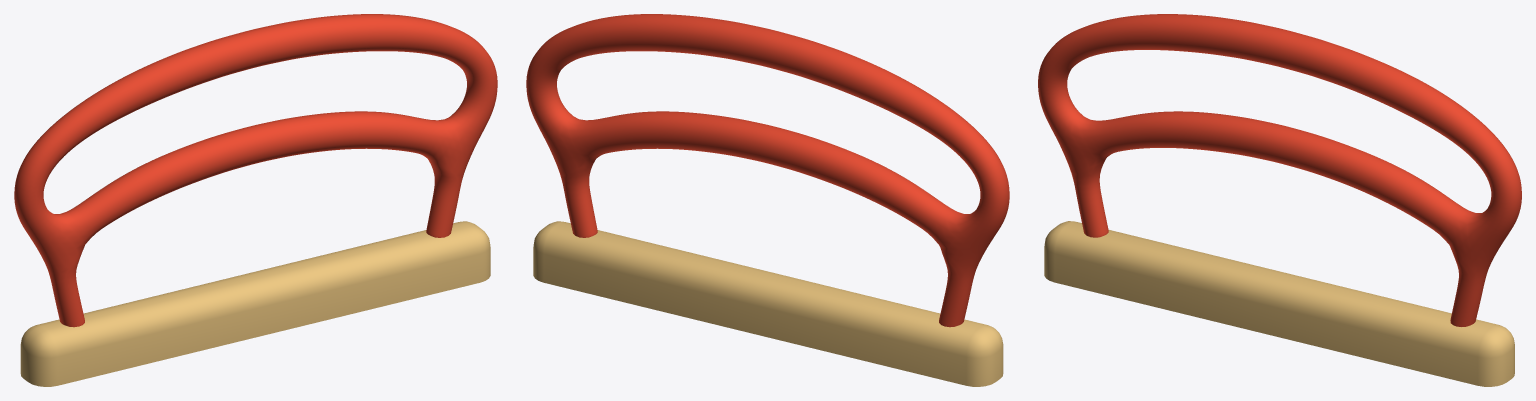
Rendered from Border_Stone_With_Fence.fbx.
3 views of the same model, side by side, from view 1: azimuth 30°, elevation 25°; view 2: azimuth 150°, elevation 25°; view 3: azimuth 330°, elevation 25° (orthographic).
Visible parts, largest first — view 1: Border Stone With Fence; view 2: Border Stone With Fence; view 3: Border Stone With Fence.
Part boxes in pixels (x1,y1,x2,y2): Border Stone With Fence: (14, 14, 497, 386); Border Stone With Fence: (526, 14, 1009, 386); Border Stone With Fence: (1038, 14, 1521, 386).
Bounding box in the file's own units: 209 × 122 × 20.
